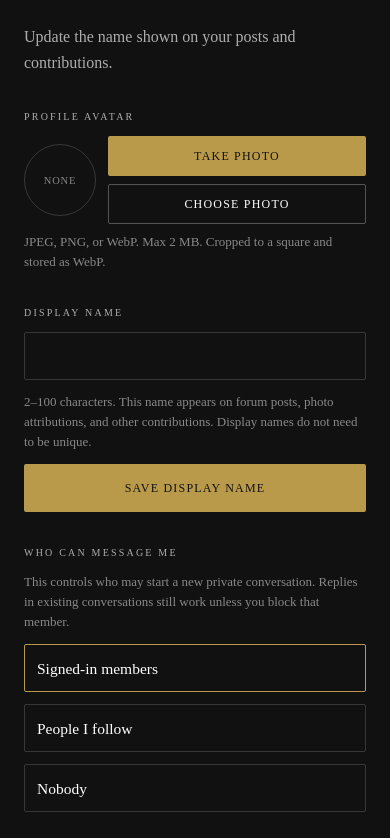
Test case: SettingsScreen notifications › uploads the chosen avatar through the member avatar API
The image size is (390, 838).
Click the button "Choose photo" at (237, 204), box [108,184,366,224]
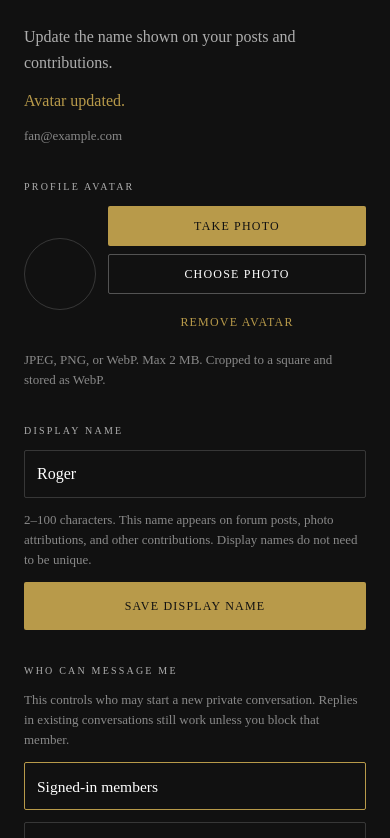
Result: the text "Avatar updated." is shown at [24,92,125,109]
